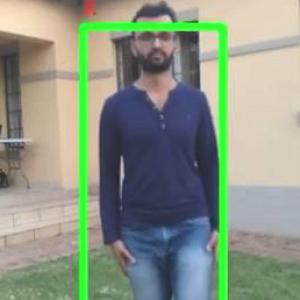follow: (98, 16, 215, 299)
